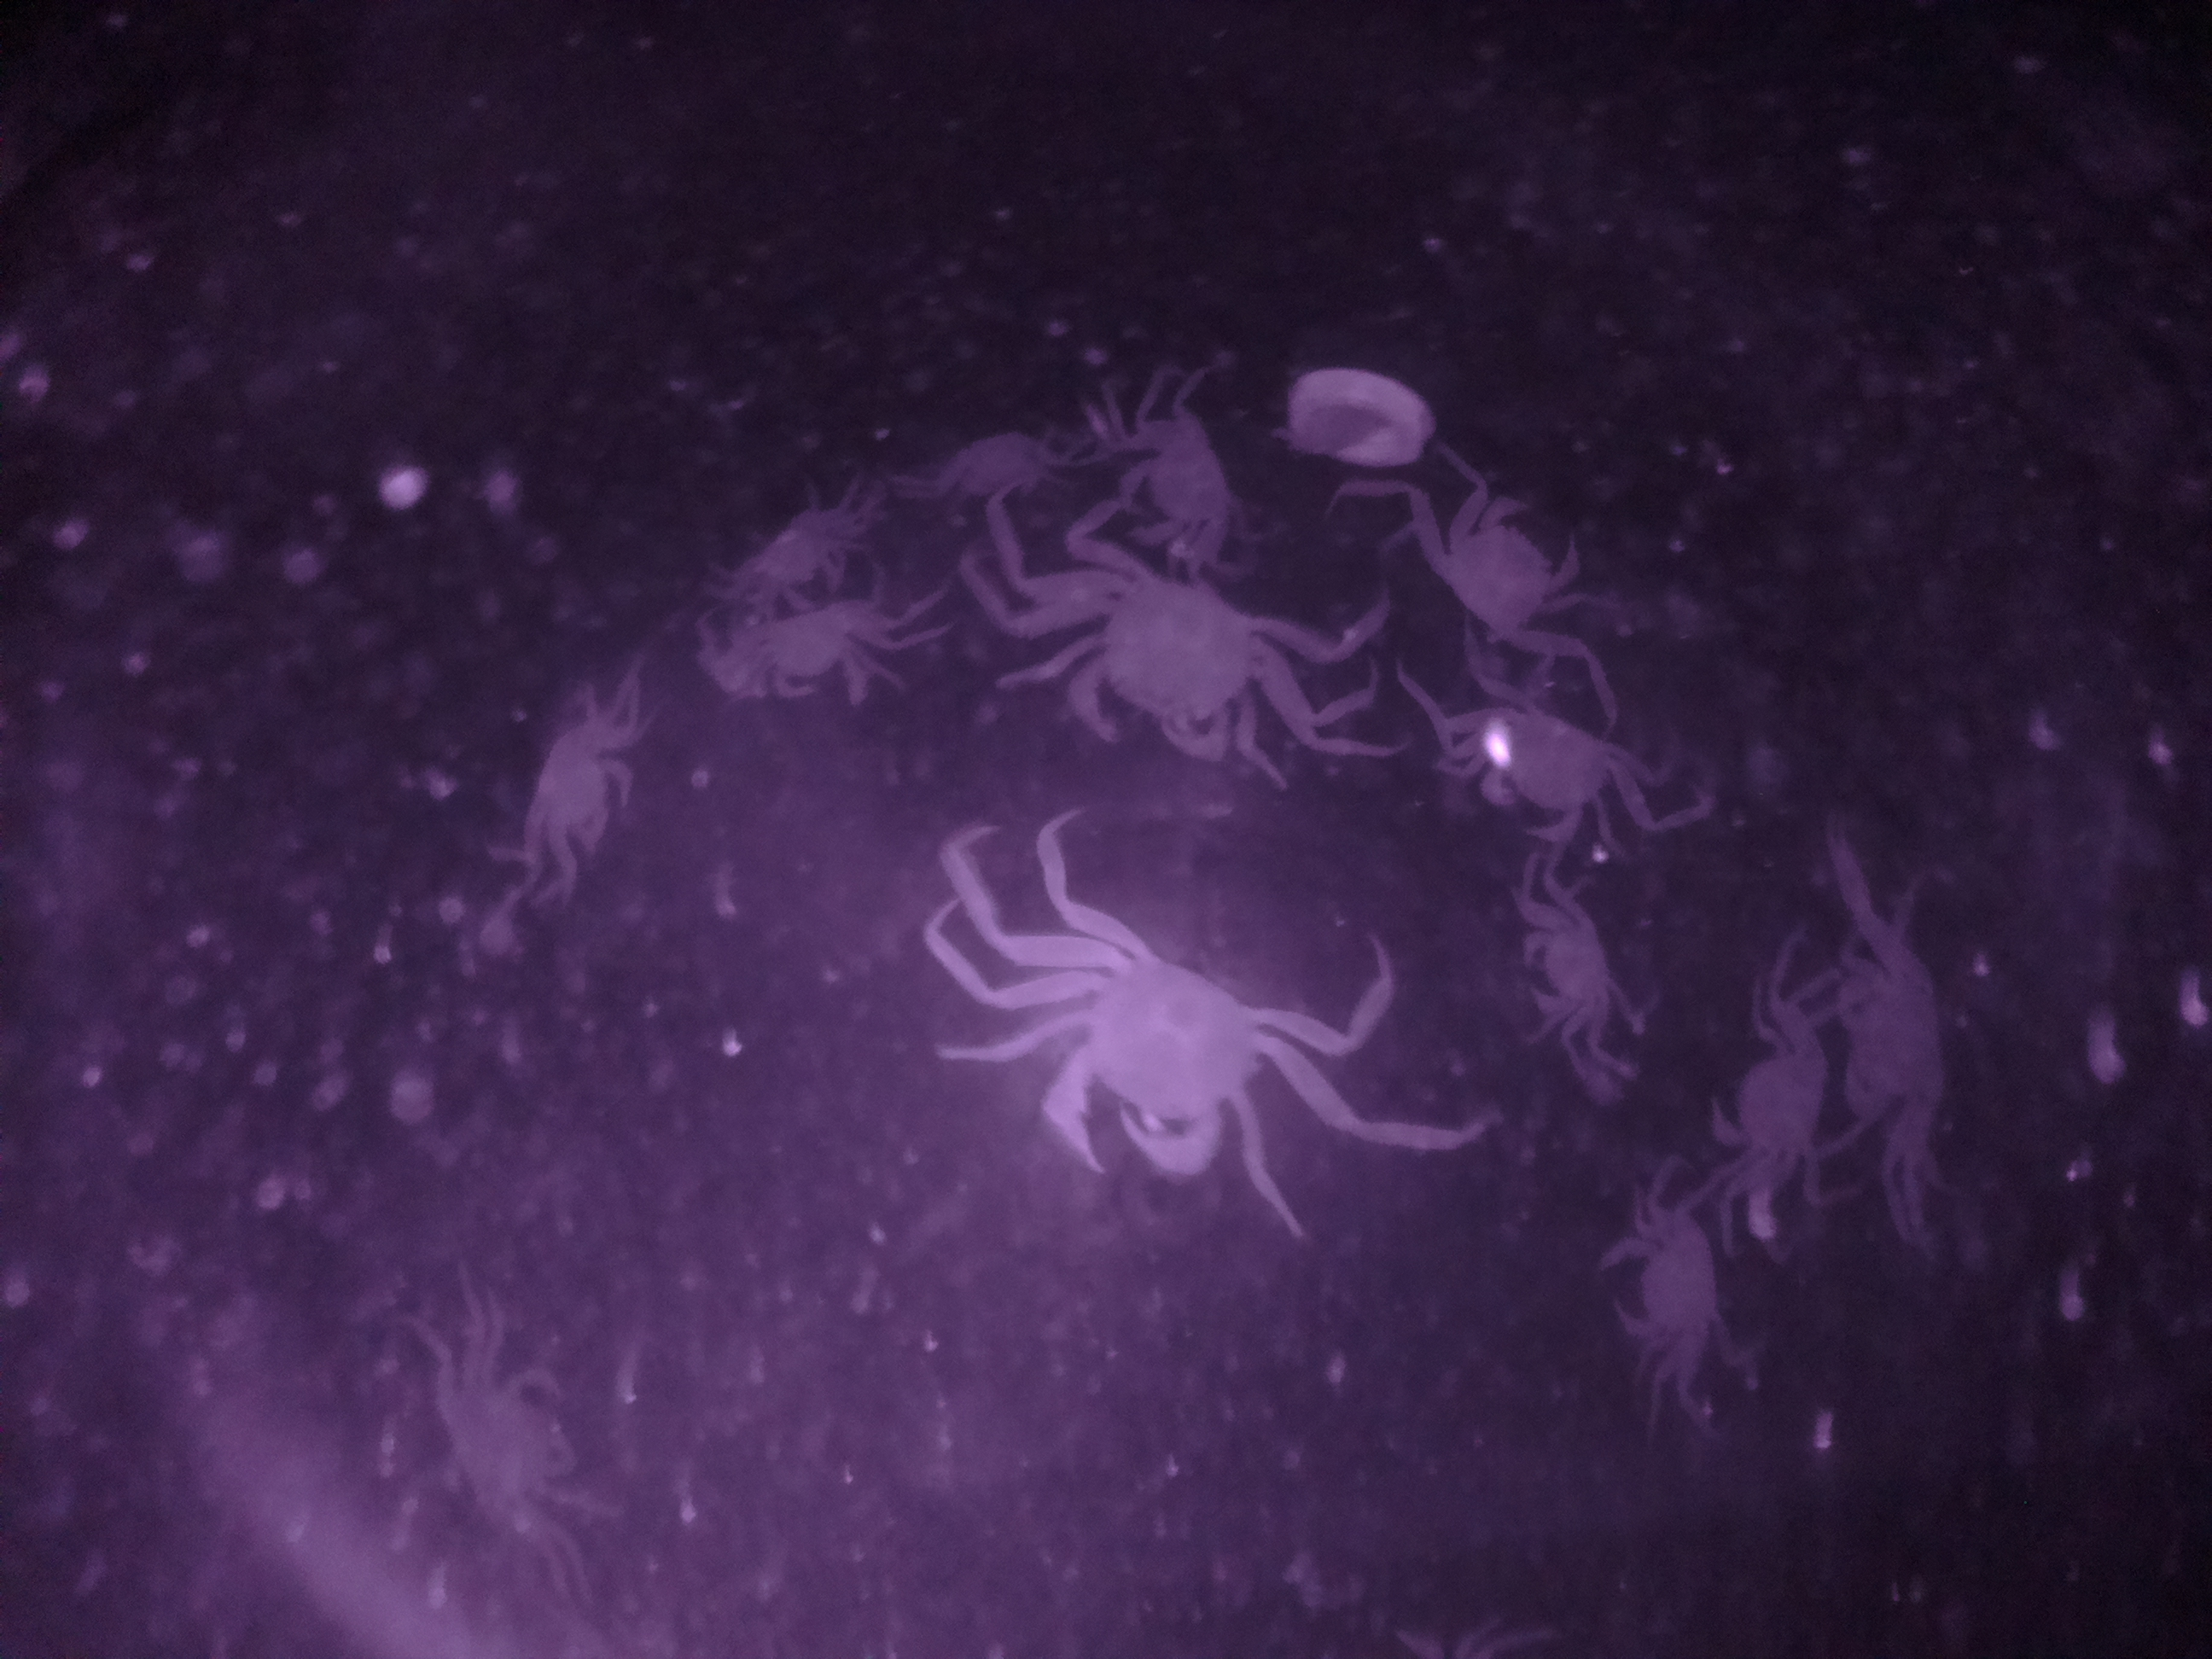Crab: (1003, 936, 1296, 1194), (1038, 556, 1280, 784), (1406, 484, 1597, 669), (1440, 695, 1641, 866), (1089, 406, 1268, 565), (1702, 999, 1838, 1202), (1588, 1204, 1730, 1363), (528, 708, 664, 864), (744, 580, 888, 716), (1517, 892, 1629, 1046)
